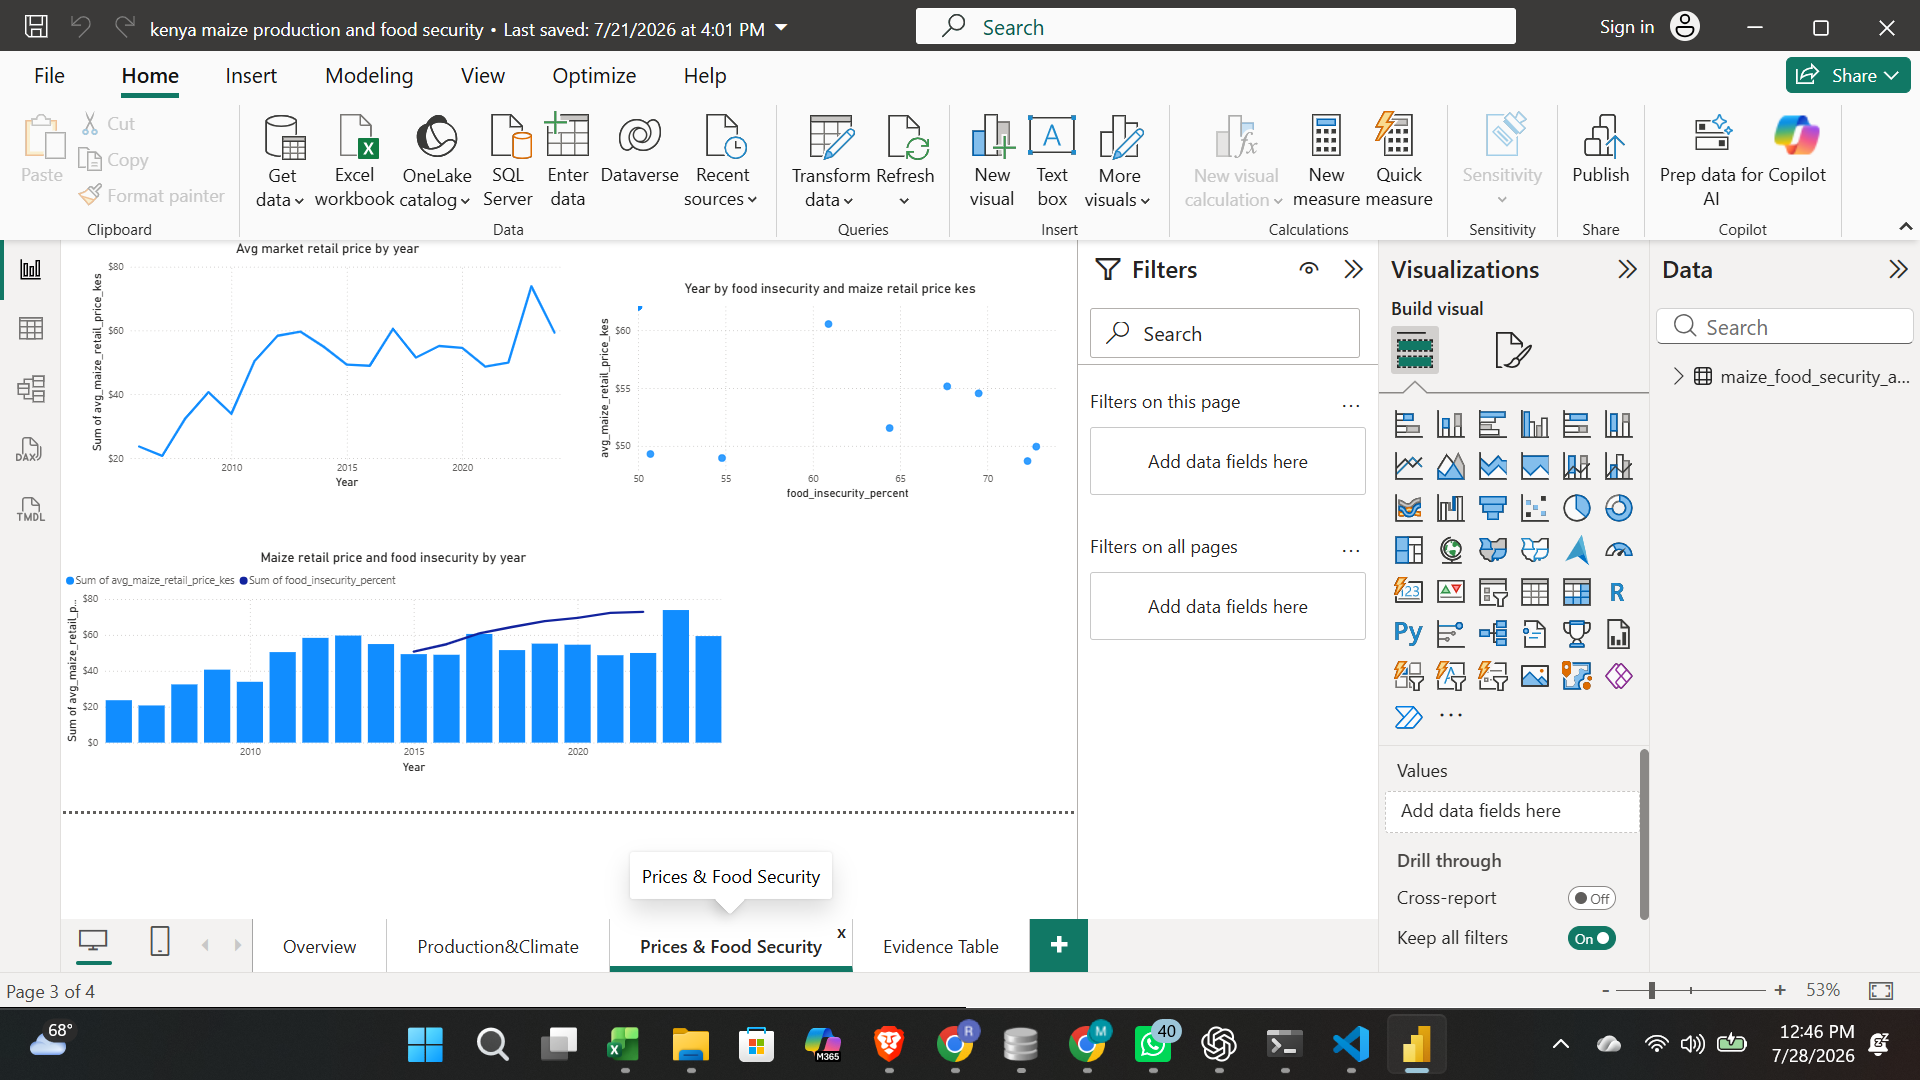

This screenshot's page, from the dashboard's own definition file:
{"tool":"powerbi","page":{"name":"Prices & Food Security","canvas":[1280,720],"ordinal":2},"visuals":[{"type":"lineChart","title":"Avg market retail price by year","fields":{"Category":["maize_food_security_analysis.Year"],"Y":["Sum(maize_food_security_analysis.avg_maize_retail_price_kes)"]},"box":[32.4,0,607.2,317.4],"z":0},{"type":"lineClusteredColumnComboChart","title":"Maize retail price and food insecurity by year","fields":{"Y":["Sum(maize_food_security_analysis.avg_maize_retail_price_kes)"],"Category":["maize_food_security_analysis.Year"],"Y2":["Sum(maize_food_security_analysis.food_insecurity_percent)"]},"box":[0,388.6,837.1,286.6],"z":1000},{"type":"scatterChart","title":" Year by food insecurity and maize retail price kes","fields":{"Y":["maize_food_security_analysis.avg_maize_retail_price_kes"],"X":["maize_food_security_analysis.food_insecurity_percent"]},"box":[670.4,50.2,595.9,280.1],"z":2000}]}

Visuals, with their boxes on the page's 1280x720 design canvas (x1, y1, x2, y2). These are canvas units, not pixel positions in the 1920x1080 screenshot, which may show the page scaled, cropped or inside an application window:
"Avg market retail price by year" lineChart: [32,0,640,317]
"Maize retail price and food insecurity by year" lineClusteredColumnComboChart: [0,389,837,675]
" Year by food insecurity and maize retail price kes" scatterChart: [670,50,1266,330]
